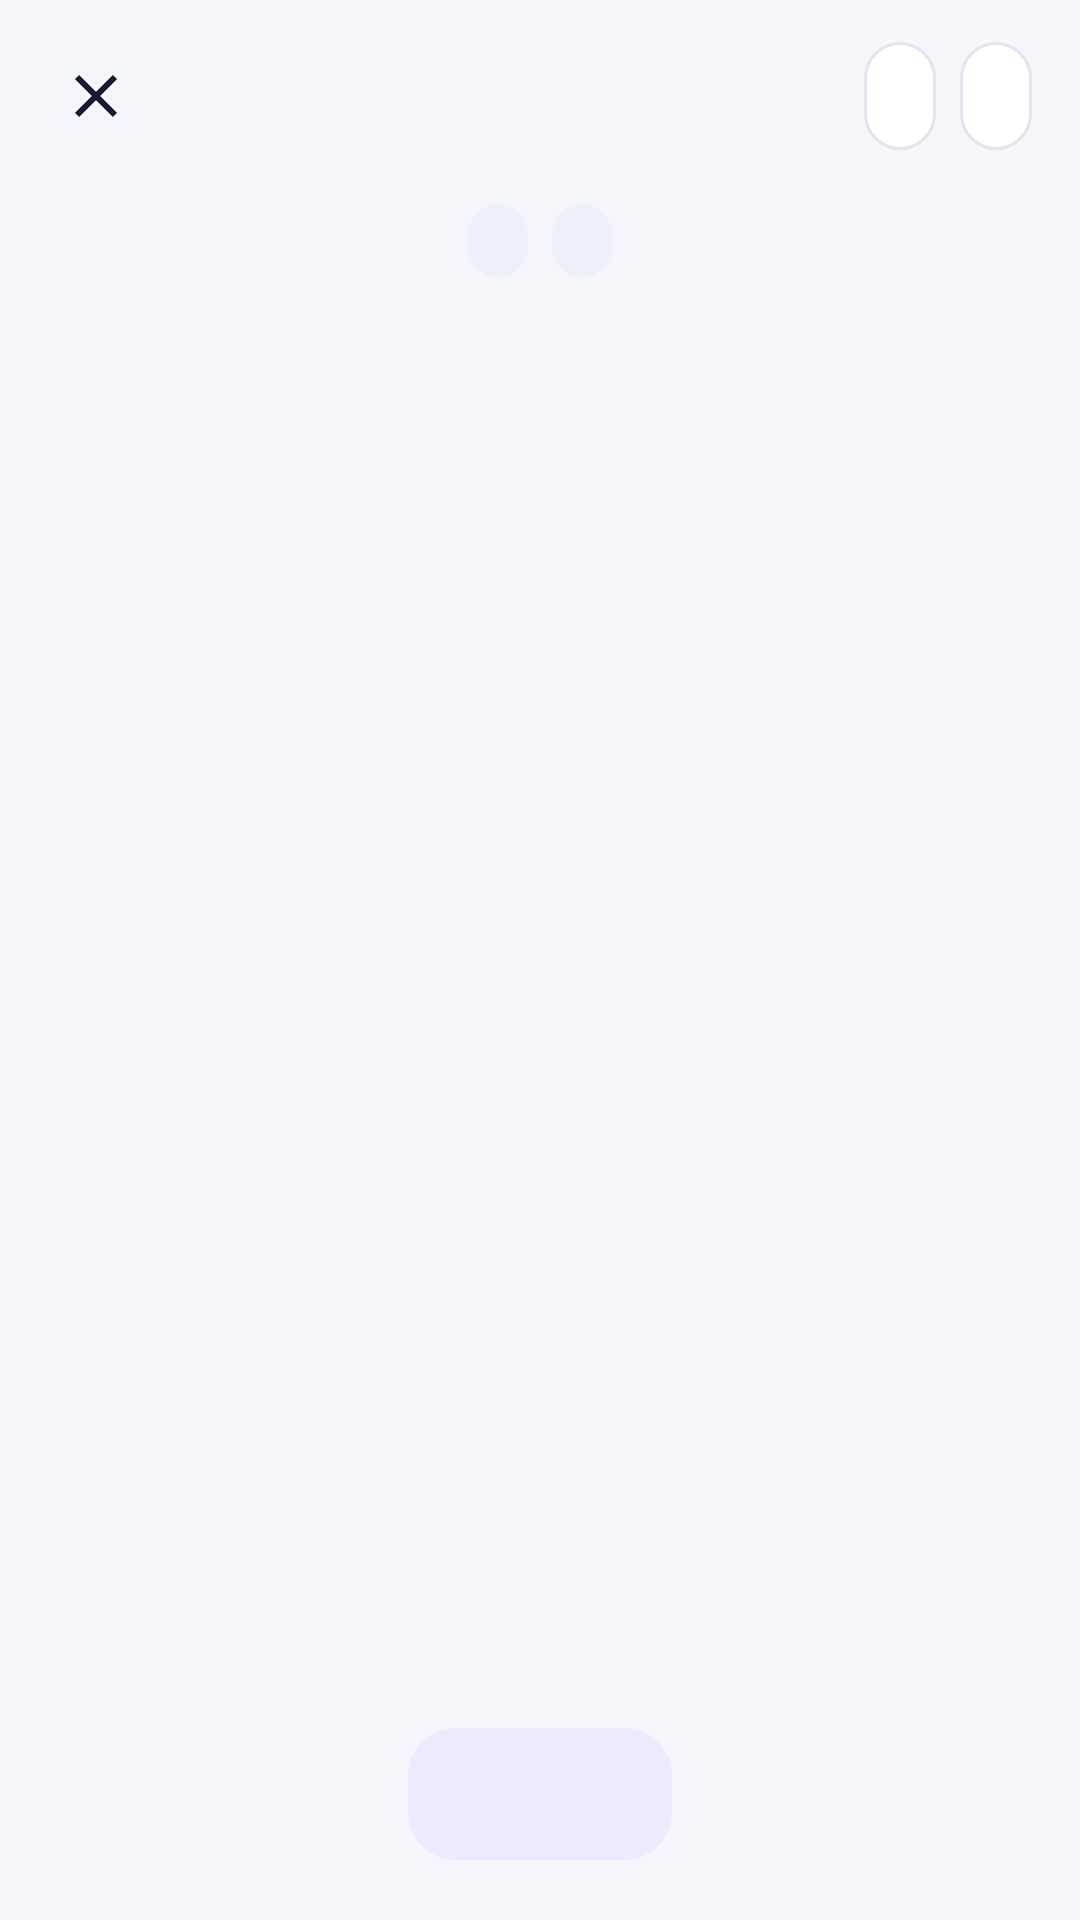

Where icons sit on this 1080px x 1920px app screen, as (x1, y1, x2, y2):
Close puzzle: (75, 75, 117, 117)
